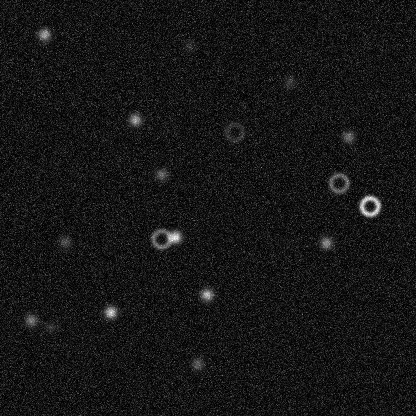Ring: (326, 170, 350, 194), (357, 193, 381, 217), (222, 119, 246, 143), (149, 226, 173, 250)
Spot: (166, 229, 182, 245), (318, 234, 334, 250), (153, 166, 169, 182), (340, 128, 356, 144), (198, 286, 214, 302), (181, 37, 197, 53), (281, 73, 297, 89), (56, 233, 72, 249), (102, 304, 118, 320), (42, 318, 58, 334), (126, 111, 142, 127), (22, 312, 38, 328), (189, 355, 205, 371), (36, 26, 52, 42)
